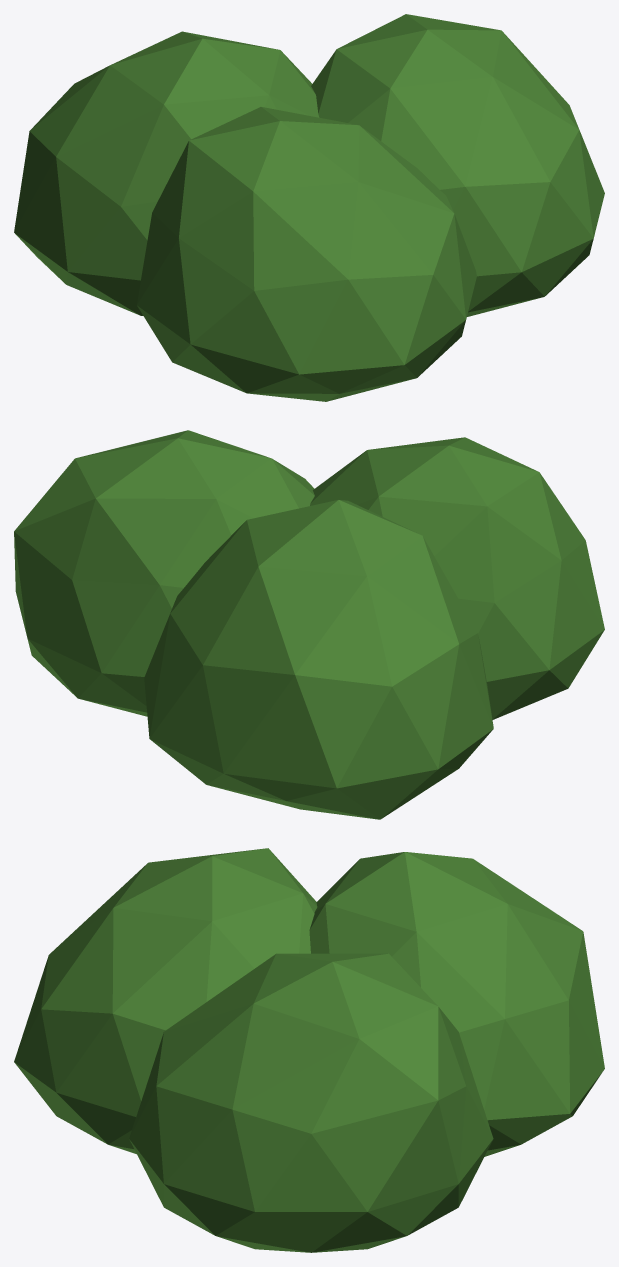
Rendered from BushV4.fbx.
The picture shows the model from 3 angles, top to bottom: view 1: azimuth 30°, elevation 25°; view 2: azimuth 150°, elevation 25°; view 3: azimuth 270°, elevation 25°; orthographic projection. The views are drawn at different scales.
Visible parts, largest first — view 1: Icosphere, Icosphere.002, Icosphere.001; view 2: Icosphere.001, Icosphere.002, Icosphere; view 3: Icosphere.002, Icosphere.001, Icosphere.
Part boxes in pixels (box(x1,y1,x2,y2)): Icosphere: box(137, 107, 476, 401); Icosphere.002: box(311, 14, 604, 316); Icosphere.001: box(14, 31, 319, 315); Icosphere.001: box(144, 500, 493, 819); Icosphere.002: box(14, 430, 314, 716); Icosphere: box(310, 437, 604, 719); Icosphere.002: box(129, 953, 493, 1252); Icosphere.001: box(309, 852, 604, 1156); Icosphere: box(14, 848, 317, 1154).
Size of the model in its own units: 79.73 by 43.44 by 82.4.
